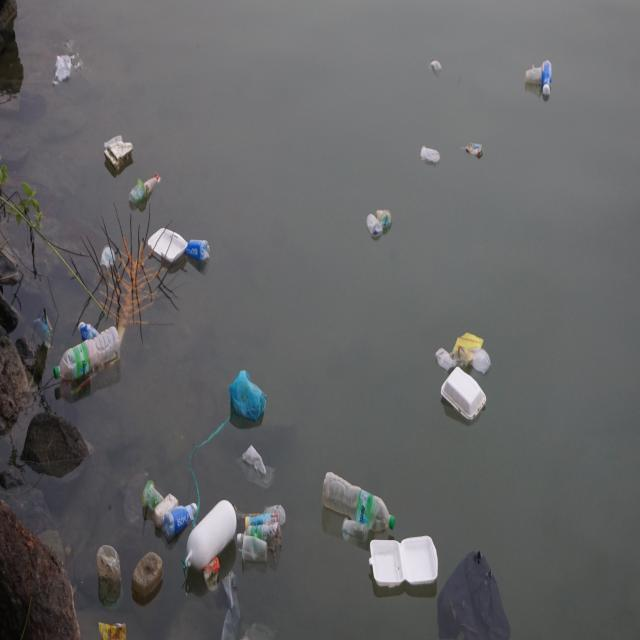Botol Plastik: (319, 468, 399, 538), (52, 327, 132, 376), (133, 548, 166, 601), (97, 545, 126, 589), (164, 500, 200, 534), (237, 524, 284, 550), (188, 233, 213, 267), (540, 57, 556, 107), (247, 513, 280, 533), (79, 318, 102, 344), (143, 169, 164, 197)
Bungkus Makanan: (368, 533, 442, 593), (440, 367, 492, 424), (150, 223, 189, 266), (451, 332, 485, 371), (97, 616, 136, 640), (204, 557, 223, 591), (467, 142, 486, 160)
Bungkus Minuman: (341, 516, 372, 545), (142, 479, 165, 511), (99, 244, 117, 278), (366, 212, 387, 239), (420, 144, 444, 165), (526, 61, 546, 86), (375, 206, 396, 229), (130, 180, 148, 206)
Kantong Plastik: (437, 547, 512, 640), (221, 571, 277, 640), (231, 369, 272, 427), (235, 444, 275, 489), (55, 39, 87, 95), (428, 54, 448, 76)
